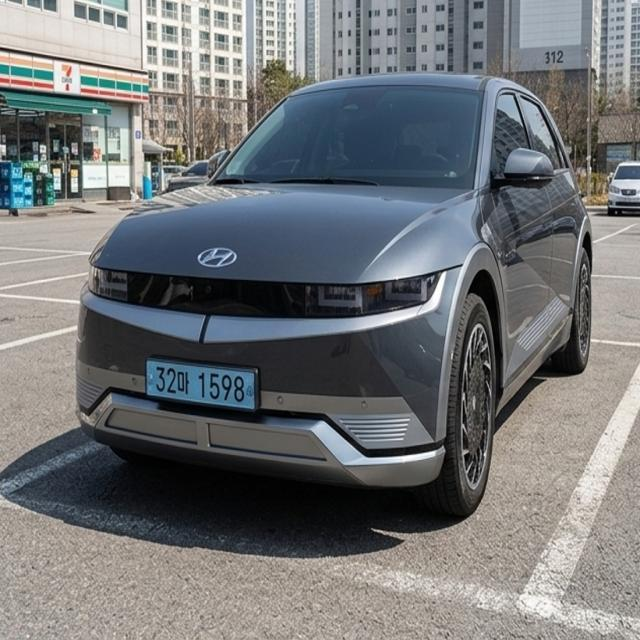car: (130, 347, 286, 427)
carev: (242, 369, 258, 413), (144, 362, 157, 398)
